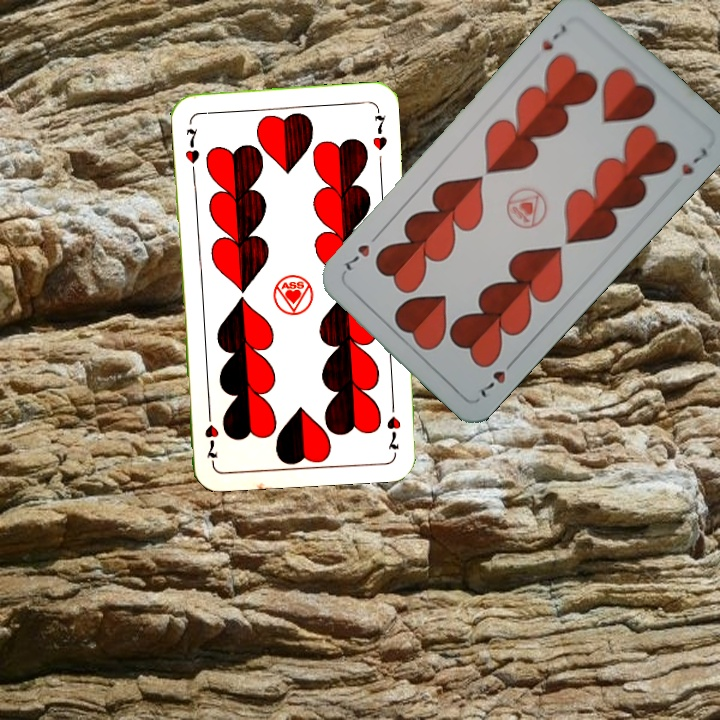H7: (474, 354, 519, 401), (382, 396, 404, 455), (537, 20, 569, 53), (181, 124, 202, 166)
